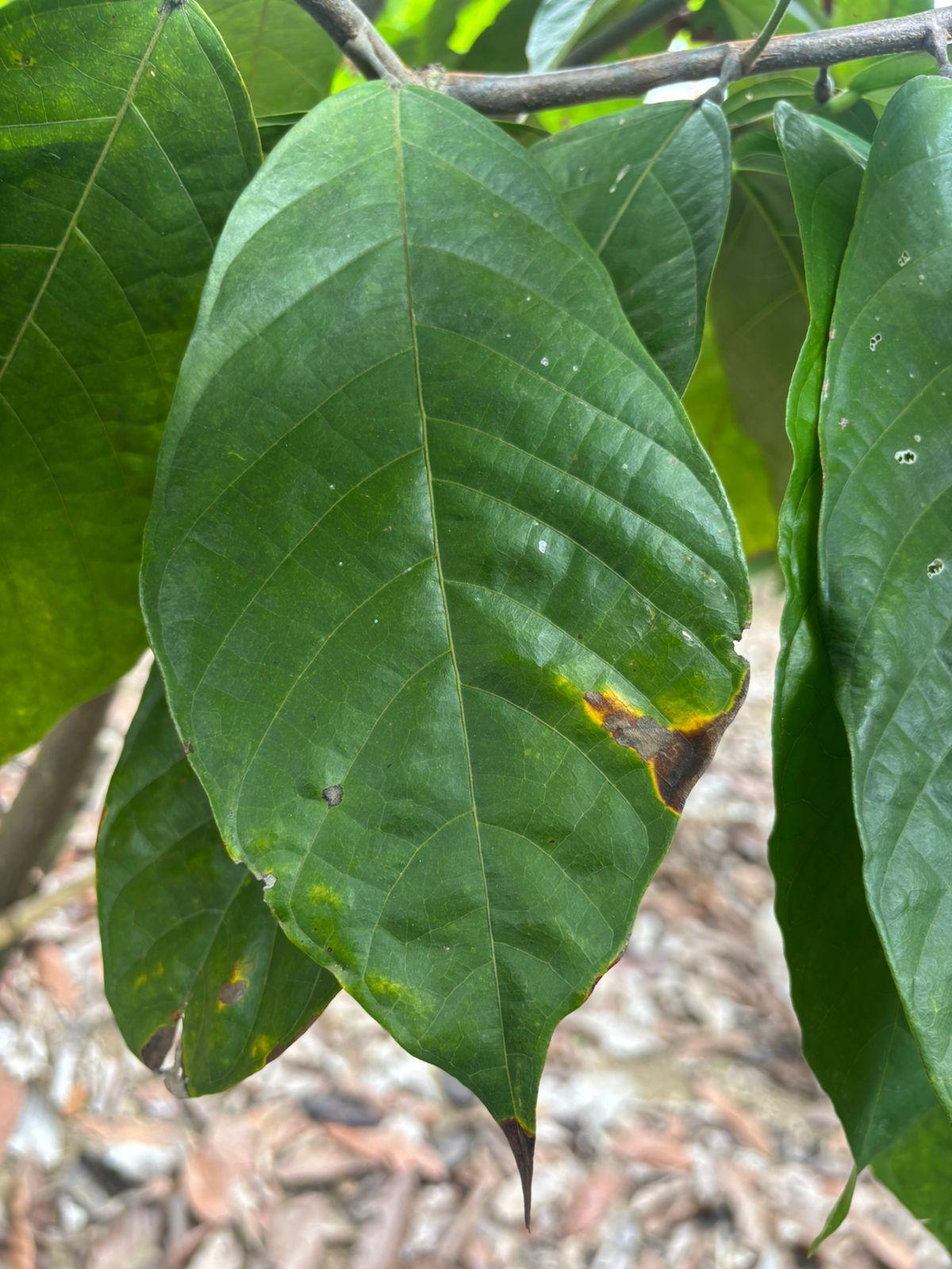deficiencia_potasio: (140, 83, 748, 1199)
